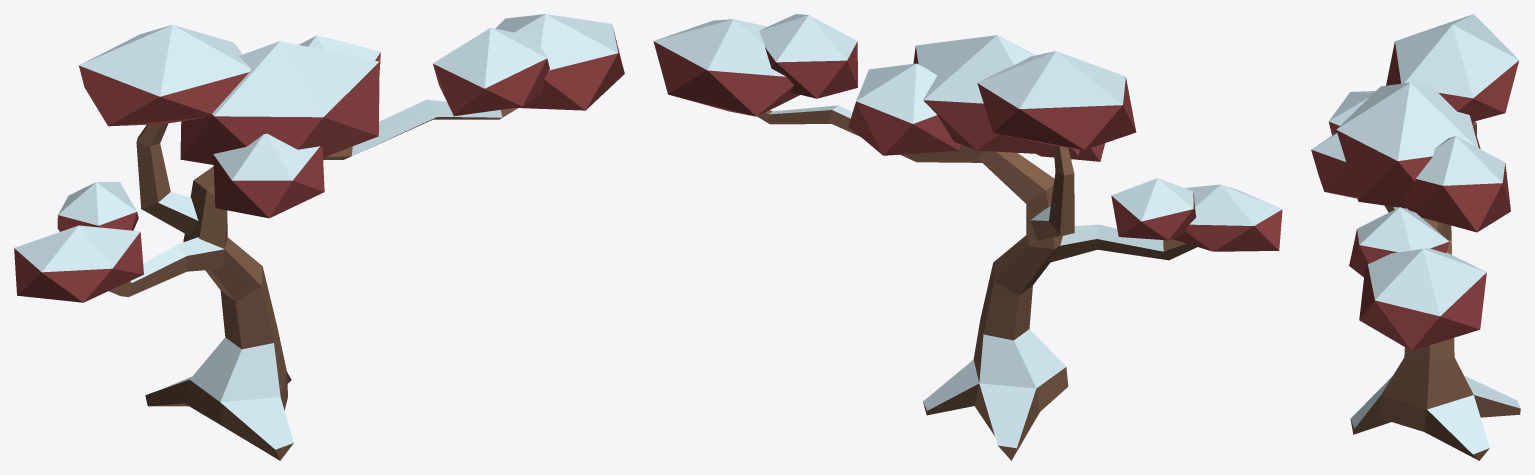
Rendered from SM_Env_Samurai_Tree_01_Snow.fbx.
The picture shows the model from 3 angles, left to right: view 1: azimuth 30°, elevation 25°; view 2: azimuth 150°, elevation 25°; view 3: azimuth 270°, elevation 25°; orthographic projection. The views are drawn at different scales.
Visible parts, largest first — view 1: SM_Env_Samurai_Tree_01_Snow; view 2: SM_Env_Samurai_Tree_01_Snow; view 3: SM_Env_Samurai_Tree_01_Snow.
Part boxes in pixels (bbox=[...]): SM_Env_Samurai_Tree_01_Snow: bbox=[14, 14, 624, 460]; SM_Env_Samurai_Tree_01_Snow: bbox=[653, 14, 1282, 460]; SM_Env_Samurai_Tree_01_Snow: bbox=[1311, 14, 1520, 460].
Bounding box in the file's own units: 267 × 167 × 82.23.
Materials: 1 (1 with a texture image).
